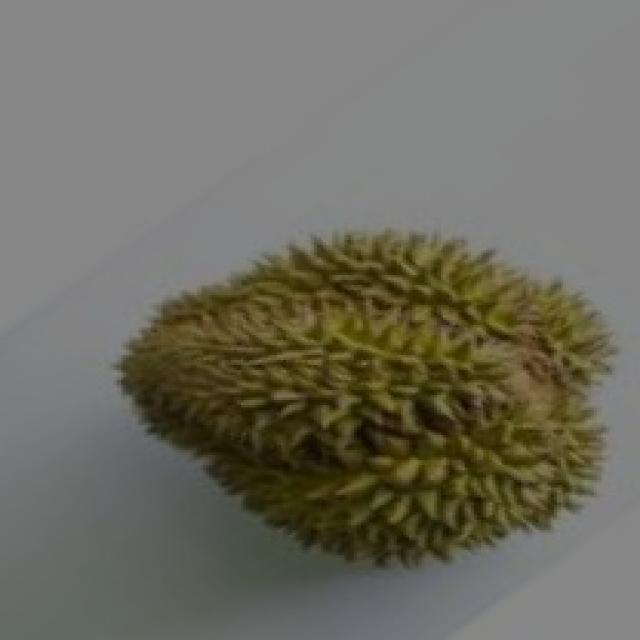fruit: (86, 220, 465, 615)
